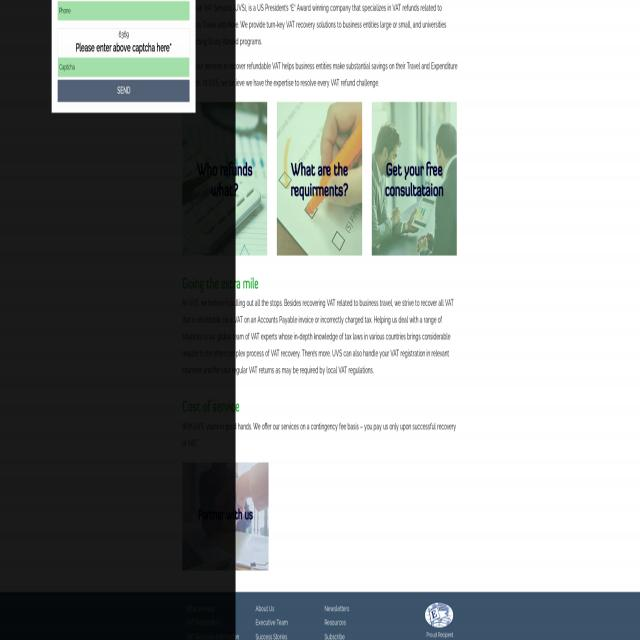button: (276, 102, 362, 256), (372, 102, 457, 256), (235, 102, 268, 255), (236, 462, 268, 570), (58, 80, 190, 102), (424, 602, 454, 628)
field: (58, 1, 190, 21), (58, 58, 190, 76)
